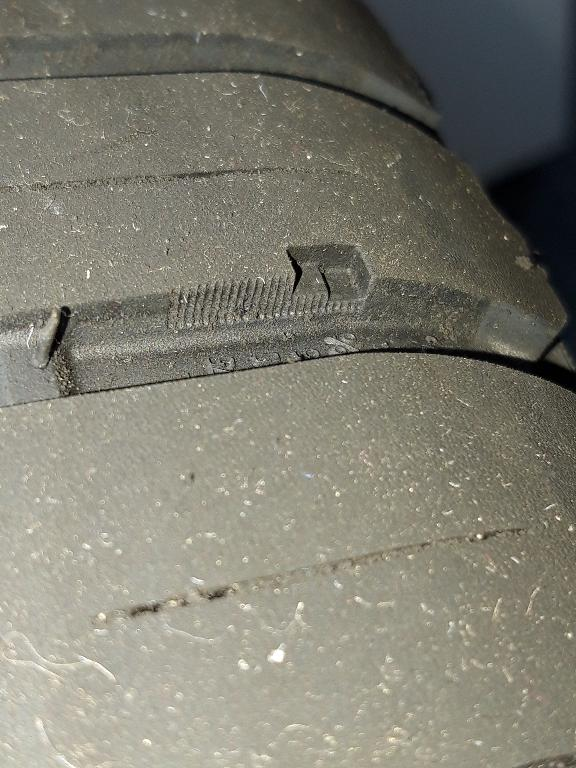temoin:50: (247, 239, 379, 328)
